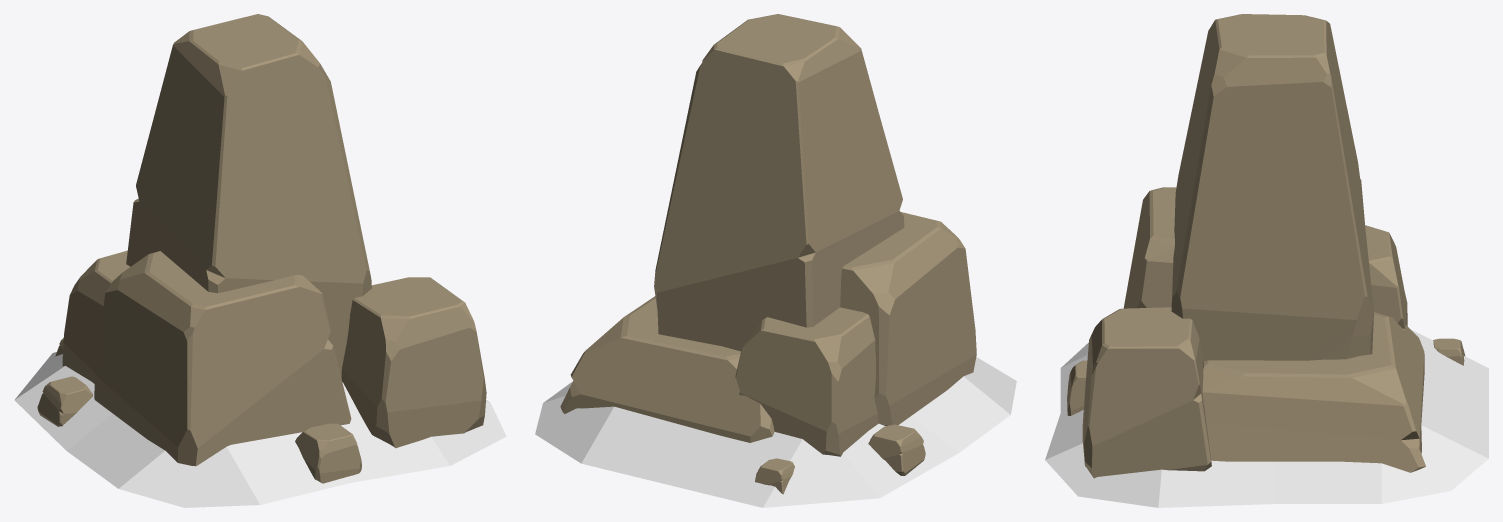
The model's file is HillBox_1.fbx.
3 views of the same model, side by side, from view 1: azimuth 30°, elevation 25°; view 2: azimuth 150°, elevation 25°; view 3: azimuth 270°, elevation 25° (orthographic). The views are drawn at different scales.
Visible parts, largest first — view 1: New Hill.001; view 2: New Hill.001; view 3: New Hill.001.
Part boxes in pixels (x1,y1,x2,y2): New Hill.001: [14, 14, 506, 507]; New Hill.001: [535, 14, 1016, 507]; New Hill.001: [1045, 14, 1488, 507].
Bounding box in the file's own units: 432 × 414 × 438.
